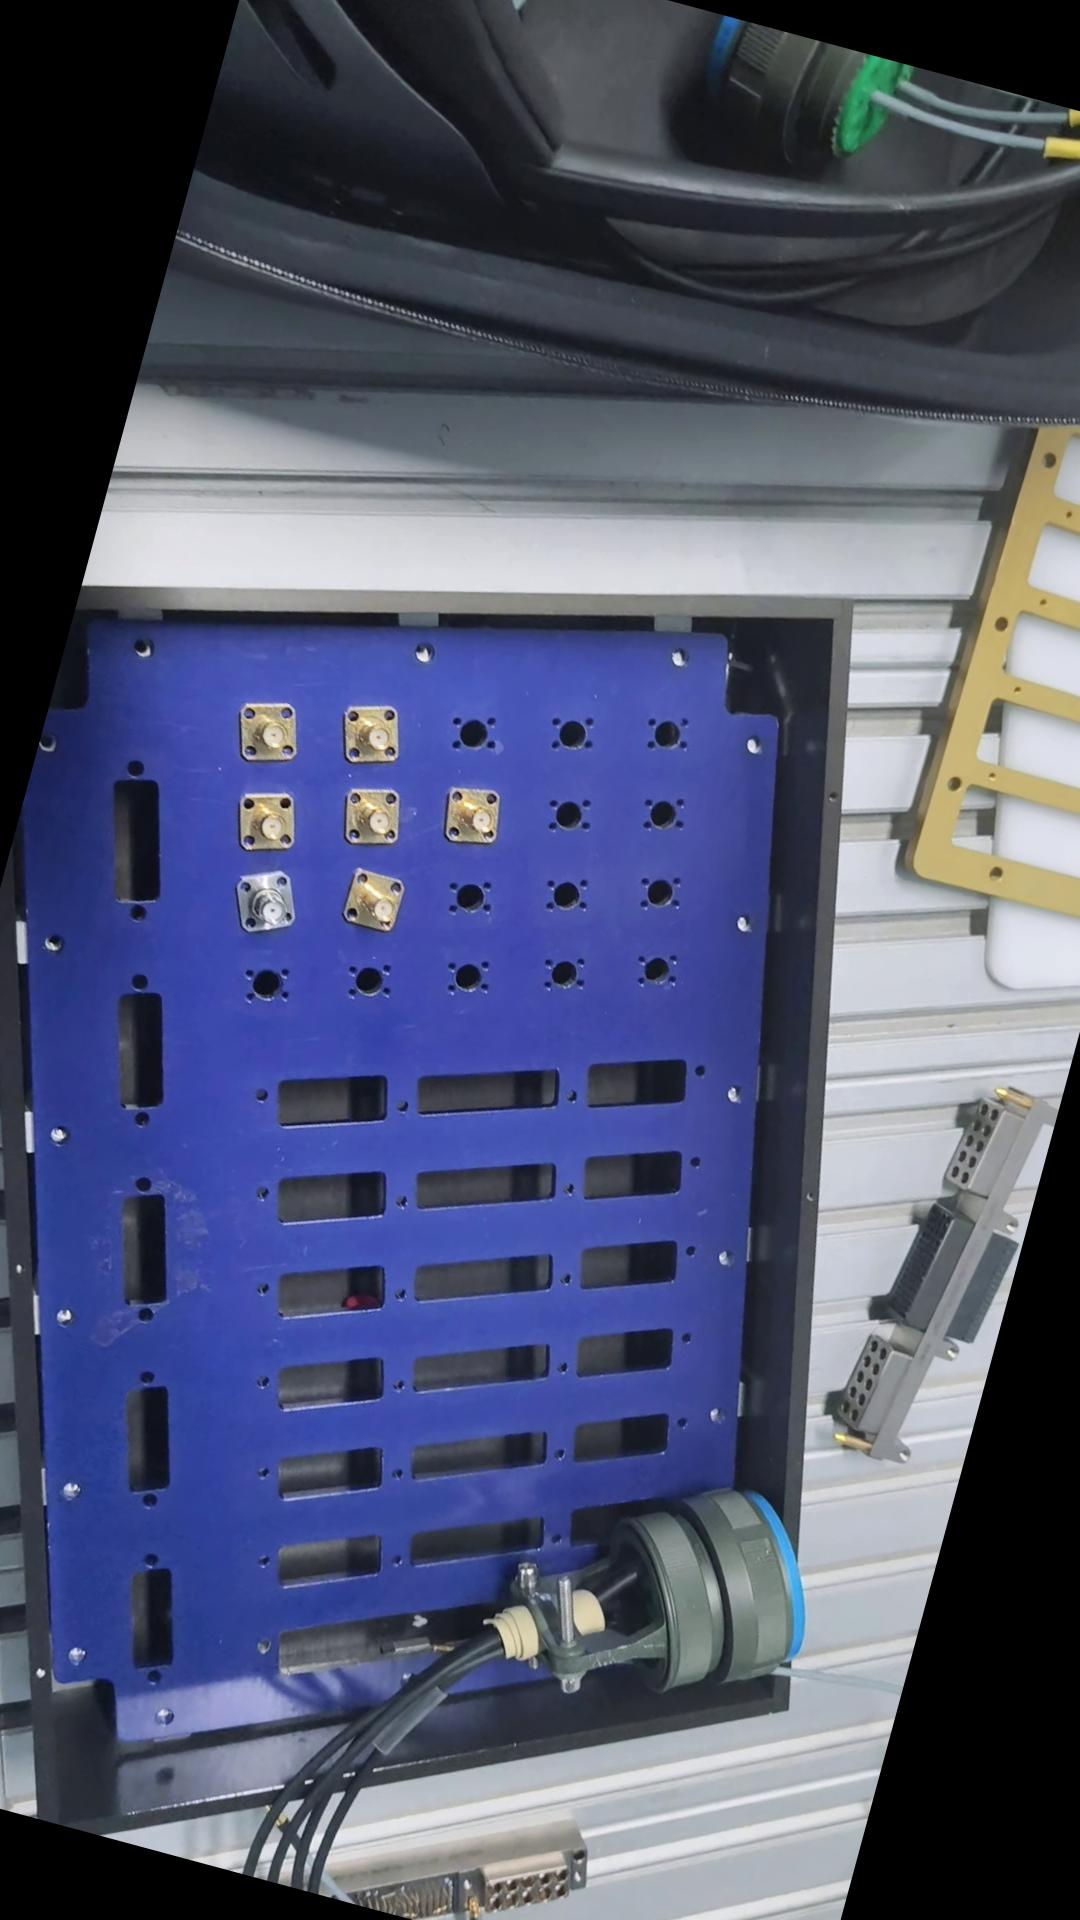SMA: (328, 698, 423, 777), (222, 860, 310, 943), (433, 778, 520, 857), (229, 777, 313, 858), (330, 779, 418, 855), (231, 691, 310, 771), (339, 864, 417, 939)
